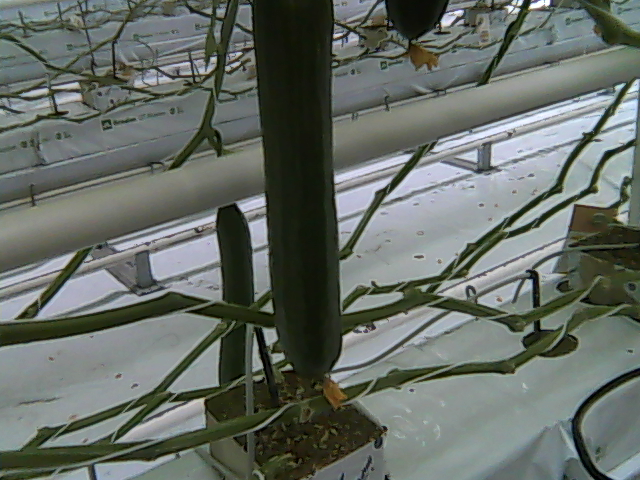concombre: (251, 1, 348, 417)
